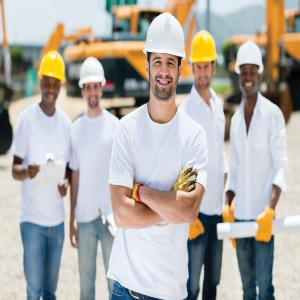white: (144, 11, 187, 105), (237, 39, 264, 99), (79, 54, 105, 109)
yellow: (191, 30, 218, 88), (40, 51, 67, 108)
